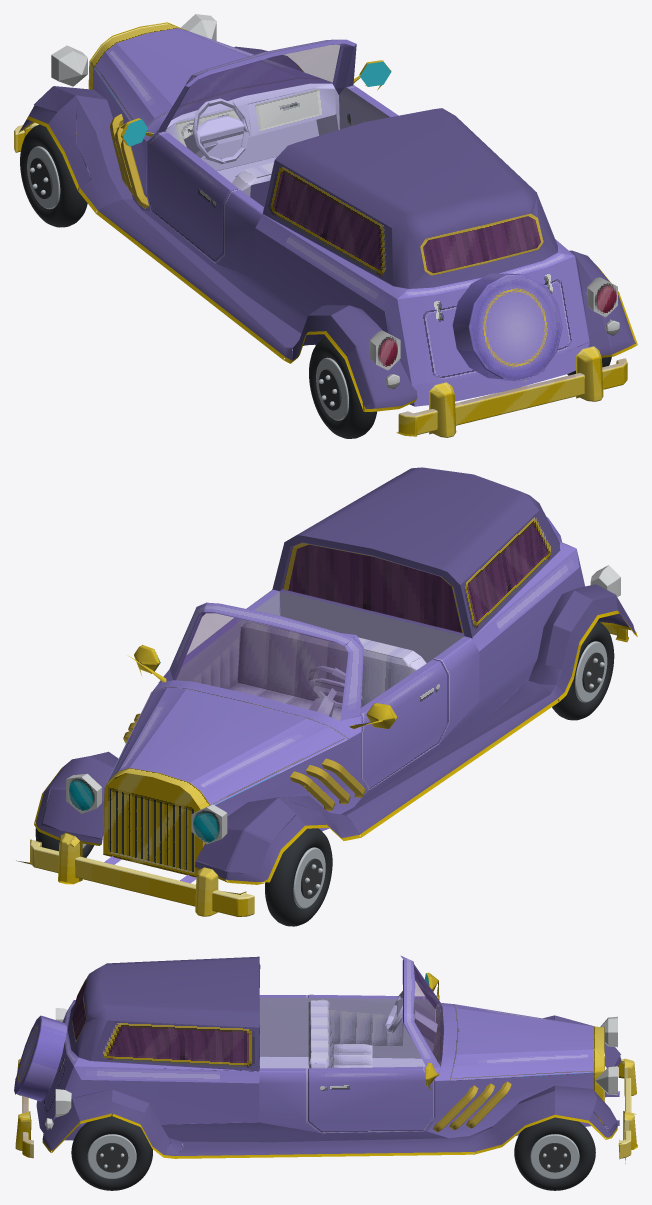
File: car-smith_v.glb
The picture shows the model from 3 angles, top to bottom: view 1: azimuth 30°, elevation 25°; view 2: azimuth 150°, elevation 25°; view 3: azimuth 270°, elevation 25°; orthographic projection. The views are drawn at different scales.
Parts seen in each view (by area): view 1: smith_vShape.005, smith_vShape.002, smith_vShape.007, TrunkRotShape.031, HoodRotShape.029, smith_vShape.008, DoorDRotShape.108, smith_vShape.011, smith_vShape.010, Rounded tire.158, smith_vShape.003, smith_vShape.009 (+8 smaller); view 2: smith_vShape.005, smith_vShape.006, smith_vShape.007, HoodRotShape.029, smith_vShape.011, DoorDRotShape.108, smith_vShape.010, smith_vShape.009, HoodRotShape.030, Rounded tire.158, smith_vShape.003, DoorPRotShape.118 (+4 smaller); view 3: smith_vShape.005, DoorPRotShape.117, smith_vShape.007, HoodRotShape.029, smith_vShape.006, DoorDRotShape.109, smith_vShape.010, Rounded tire.159, Rounded tire.156, TrunkRotShape.031, smith_vShape.004, smith_vShape.009 (+9 smaller).
Boxes of the visible parts, x1,y1,x2,y2 form: smith_vShape.005: [48, 14, 615, 406]; smith_vShape.002: [347, 280, 635, 437]; smith_vShape.007: [165, 83, 339, 196]; TrunkRotShape.031: [452, 273, 562, 381]; HoodRotShape.029: [94, 28, 296, 125]; smith_vShape.008: [397, 256, 589, 384]; DoorDRotShape.108: [147, 131, 238, 262]; smith_vShape.011: [172, 45, 340, 119]; smith_vShape.010: [159, 39, 574, 311]; Rounded tire.158: [20, 124, 87, 227]; smith_vShape.003: [215, 188, 263, 278]; smith_vShape.009: [18, 60, 637, 411]; smith_vShape.005: [67, 467, 620, 883]; smith_vShape.006: [16, 756, 304, 916]; smith_vShape.007: [229, 591, 463, 720]; HoodRotShape.029: [108, 688, 346, 805]; smith_vShape.011: [173, 612, 347, 720]; DoorDRotShape.108: [360, 659, 447, 791]; smith_vShape.010: [169, 541, 579, 720]; smith_vShape.009: [34, 610, 637, 884]; HoodRotShape.030: [119, 688, 327, 790]; Rounded tire.158: [265, 828, 332, 926]; smith_vShape.003: [434, 636, 479, 743]; DoorPRotShape.118: [176, 619, 247, 689]; smith_vShape.005: [36, 956, 619, 1155]; DoorPRotShape.117: [308, 1066, 435, 1132]; smith_vShape.007: [259, 991, 443, 1068]; HoodRotShape.029: [452, 1008, 593, 1080]; smith_vShape.006: [555, 1015, 637, 1163]; DoorDRotShape.109: [308, 997, 435, 1058]; smith_vShape.010: [64, 955, 440, 1083]; Rounded tire.159: [514, 1117, 595, 1190]; Rounded tire.156: [71, 1114, 152, 1190]; TrunkRotShape.031: [14, 1015, 67, 1101]; smith_vShape.004: [259, 1068, 320, 1132]; smith_vShape.009: [42, 972, 621, 1158].
Size of the model in its own units: 2.53 by 1.89 by 6.51.
Materials: 15 (12 with a texture image).
